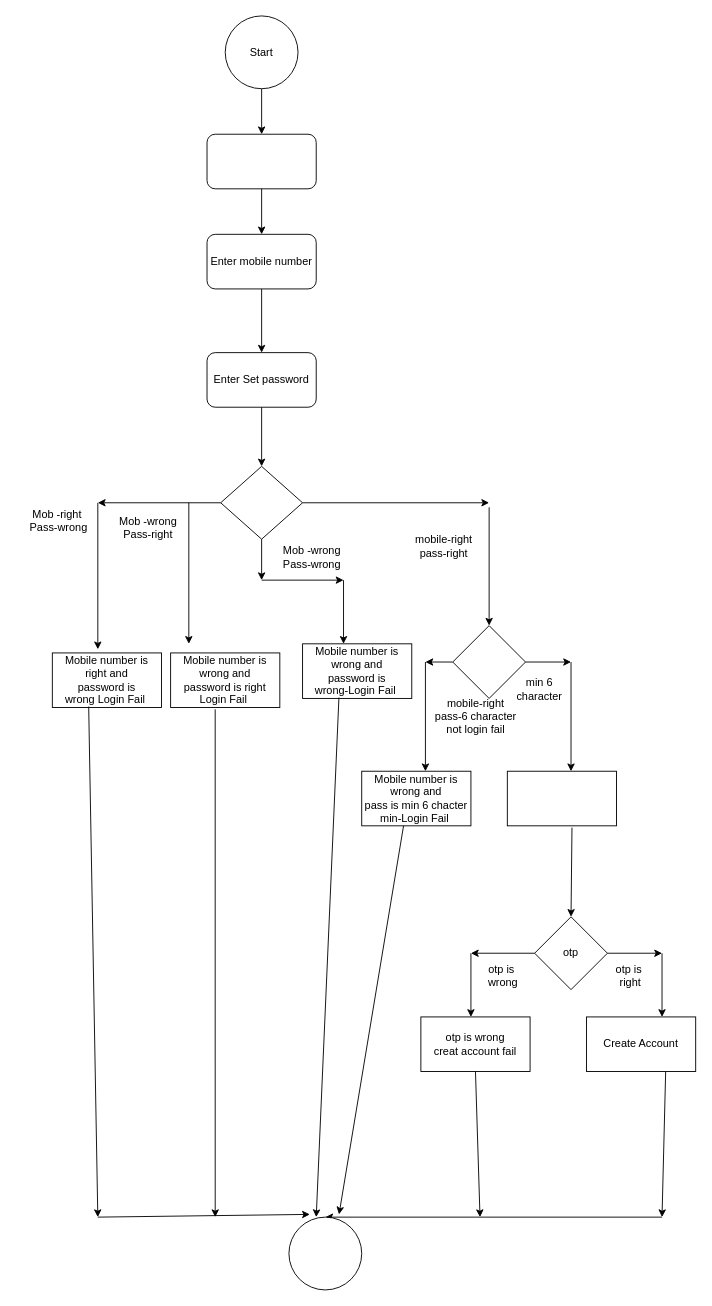
Image size: 712x1306. Some labels were removed from this diagram. The shapes that lost their labels are listed below. From the top down, each one's box as (x1, y1, x2, y2) in pixels, then its label:
(206, 133, 316, 189): Enter name
(220, 465, 303, 539): Check num,pass
(452, 625, 526, 698): password requried
(506, 770, 617, 826): continue
(288, 1216, 362, 1290): end
